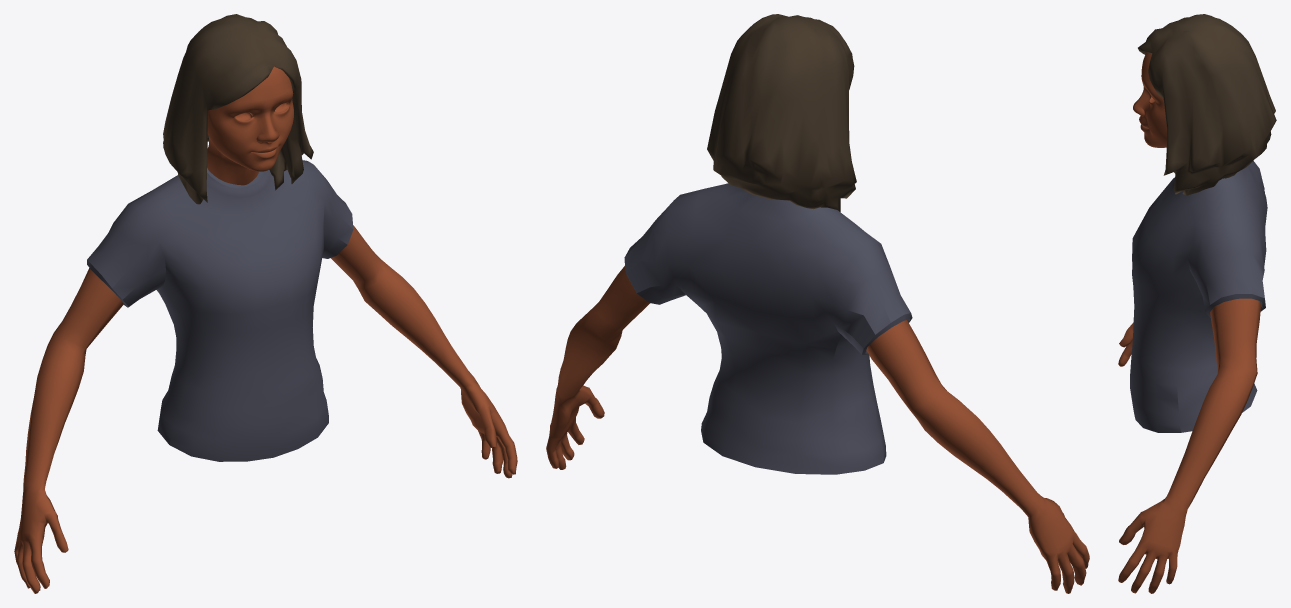
Rendered from woman3_upperBody.glb.
3 views of the same model, side by side, from view 1: azimuth 30°, elevation 25°; view 2: azimuth 150°, elevation 25°; view 3: azimuth 270°, elevation 25° (orthographic). The views are drawn at different scales.
Parts seen in each view (by area): view 1: Wolf3D_Outfit_Top, Wolf3D_Body.001, Wolf3D_Hair, Wolf3D_Head; view 2: Wolf3D_Outfit_Top, Wolf3D_Hair, Wolf3D_Body.001; view 3: Wolf3D_Outfit_Top, Wolf3D_Hair, Wolf3D_Body.001, Wolf3D_Head.
Part boxes in pixels (box(x1,y1,x2,y2)): Wolf3D_Outfit_Top: box(87, 160, 353, 461); Wolf3D_Body.001: box(14, 225, 517, 593); Wolf3D_Hair: box(163, 14, 313, 204); Wolf3D_Head: box(207, 66, 293, 185); Wolf3D_Outfit_Top: box(624, 183, 912, 474); Wolf3D_Hair: box(707, 14, 856, 211); Wolf3D_Body.001: box(546, 266, 1089, 593); Wolf3D_Outfit_Top: box(1130, 161, 1267, 432); Wolf3D_Hair: box(1138, 14, 1276, 195); Wolf3D_Body.001: box(1118, 298, 1260, 593); Wolf3D_Head: box(1133, 52, 1166, 147).
Bounding box in the file's own units: 9.48 × 9.13 × 2.82.
Materials: 3 (1 with a texture image).
